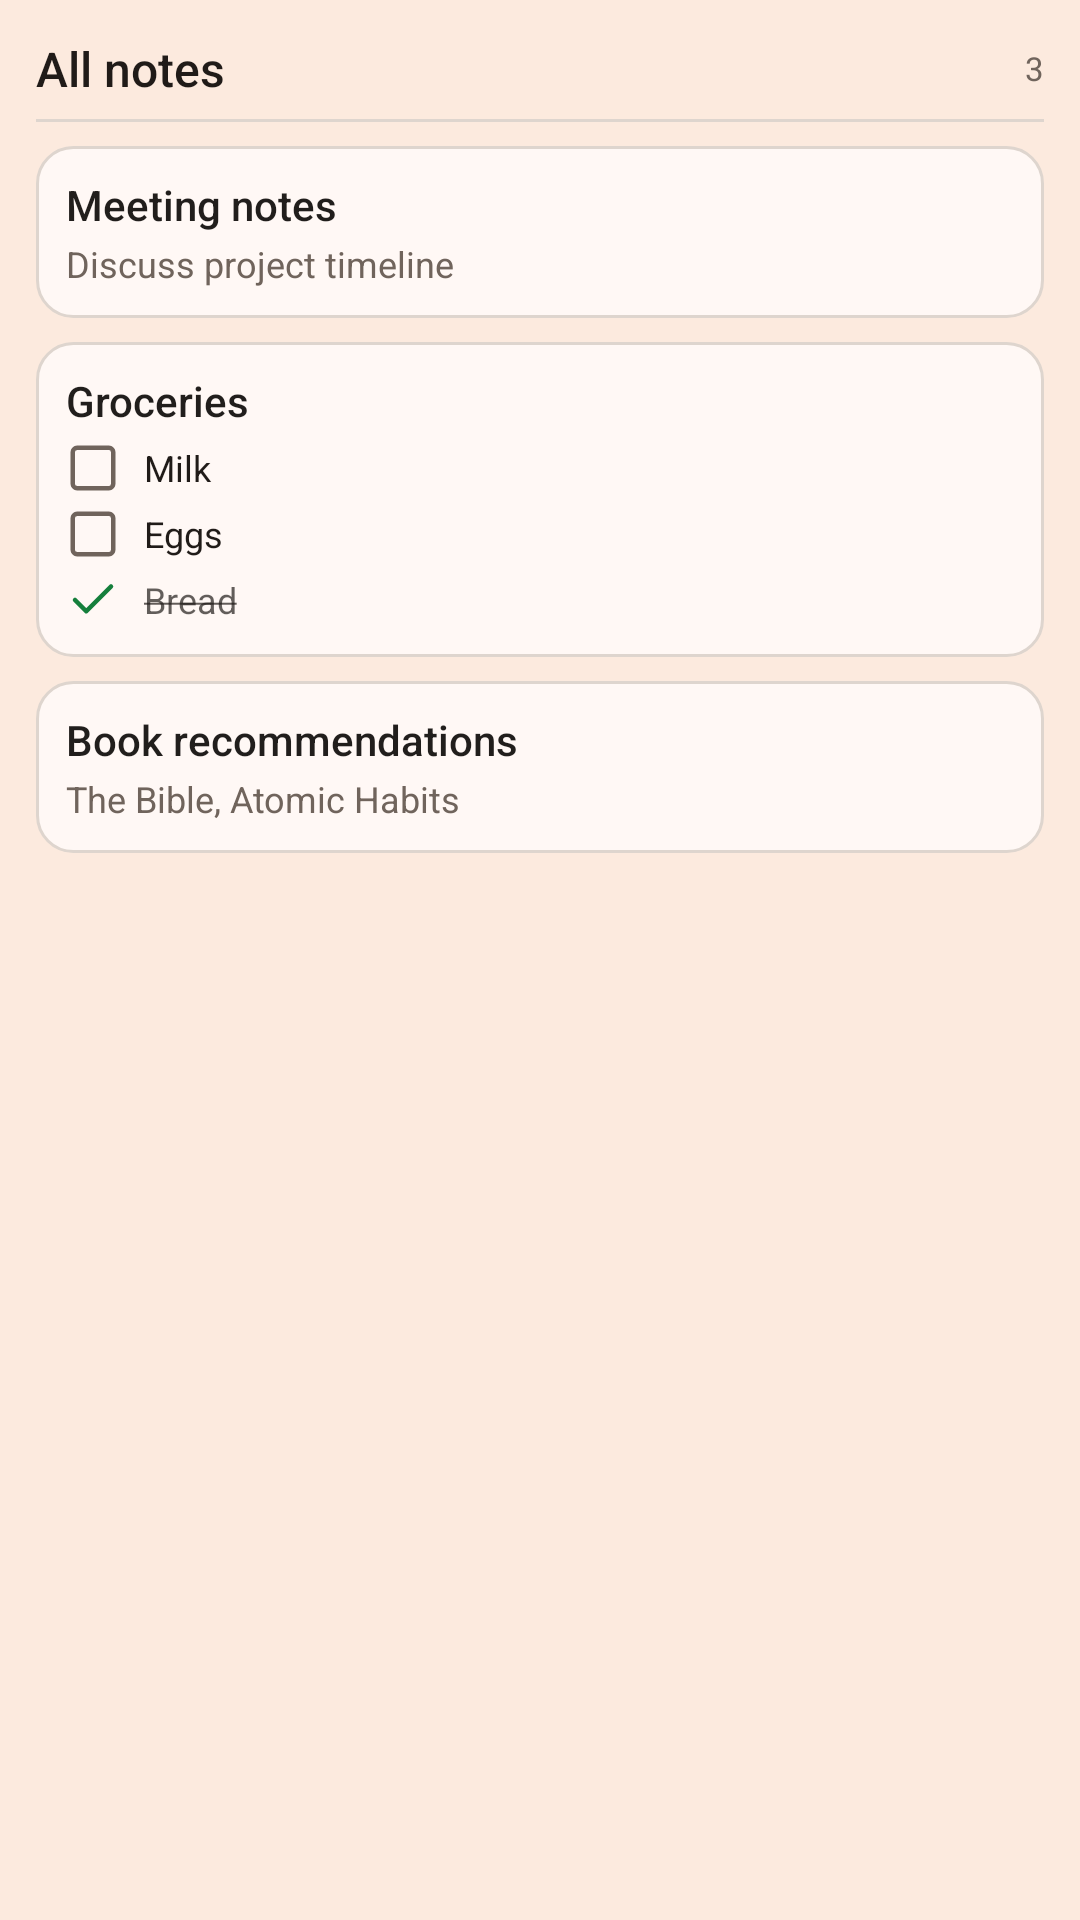

Screen size 1080×1920. Icon name, then its center in pixels as (x,y):
widget checkbox checked: (93,599)
widget checkbox unchecked: (93,468), (93,534)
